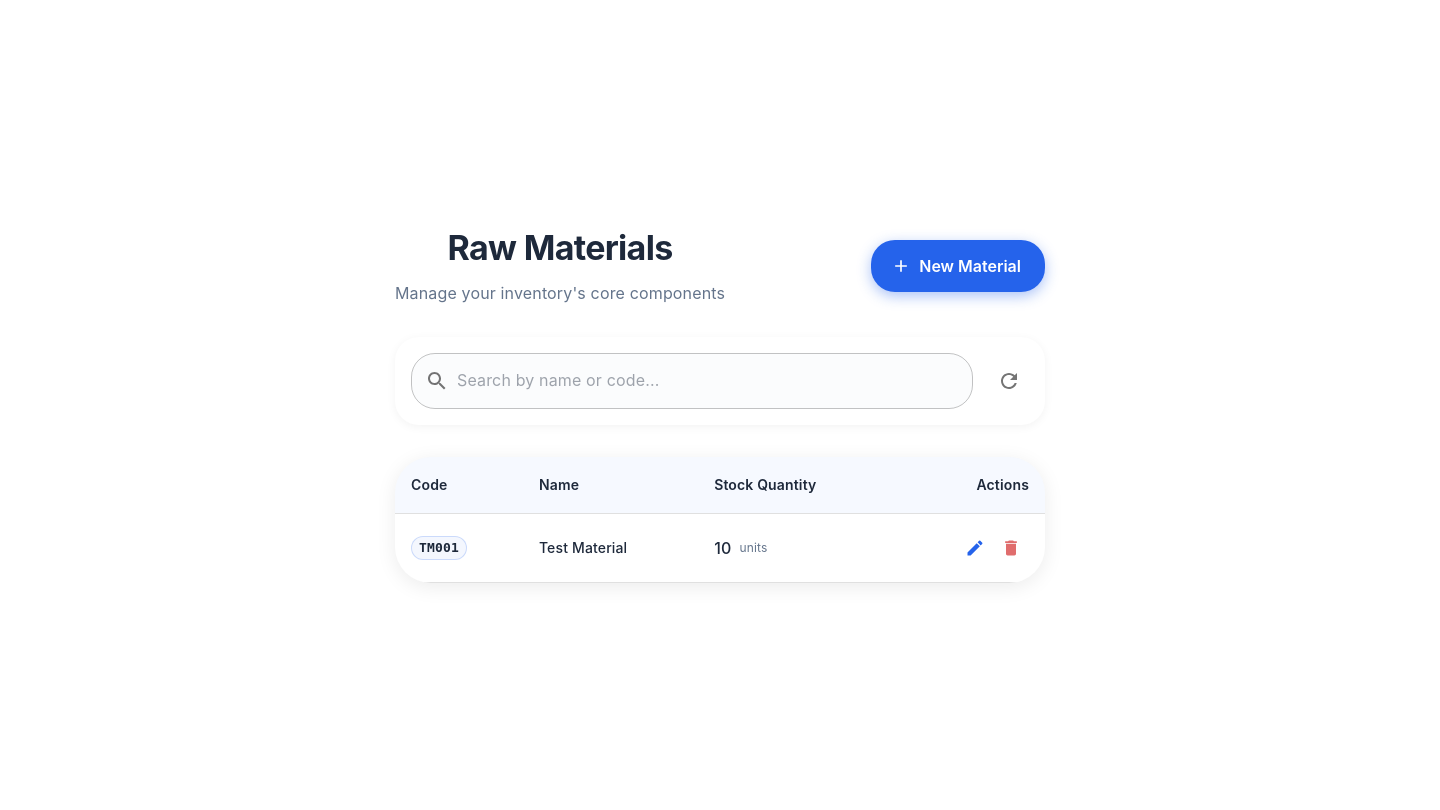
Scenario: RawMaterialsPage › opens edit material dialog, pre-populates data, and submits successfully
Expected: the text "Test Material" is shown, x1=523 y1=513 x2=698 y2=582
Click the button with test id "EditIcon" at [975, 548], box x1=957 y1=530 x2=993 y2=566
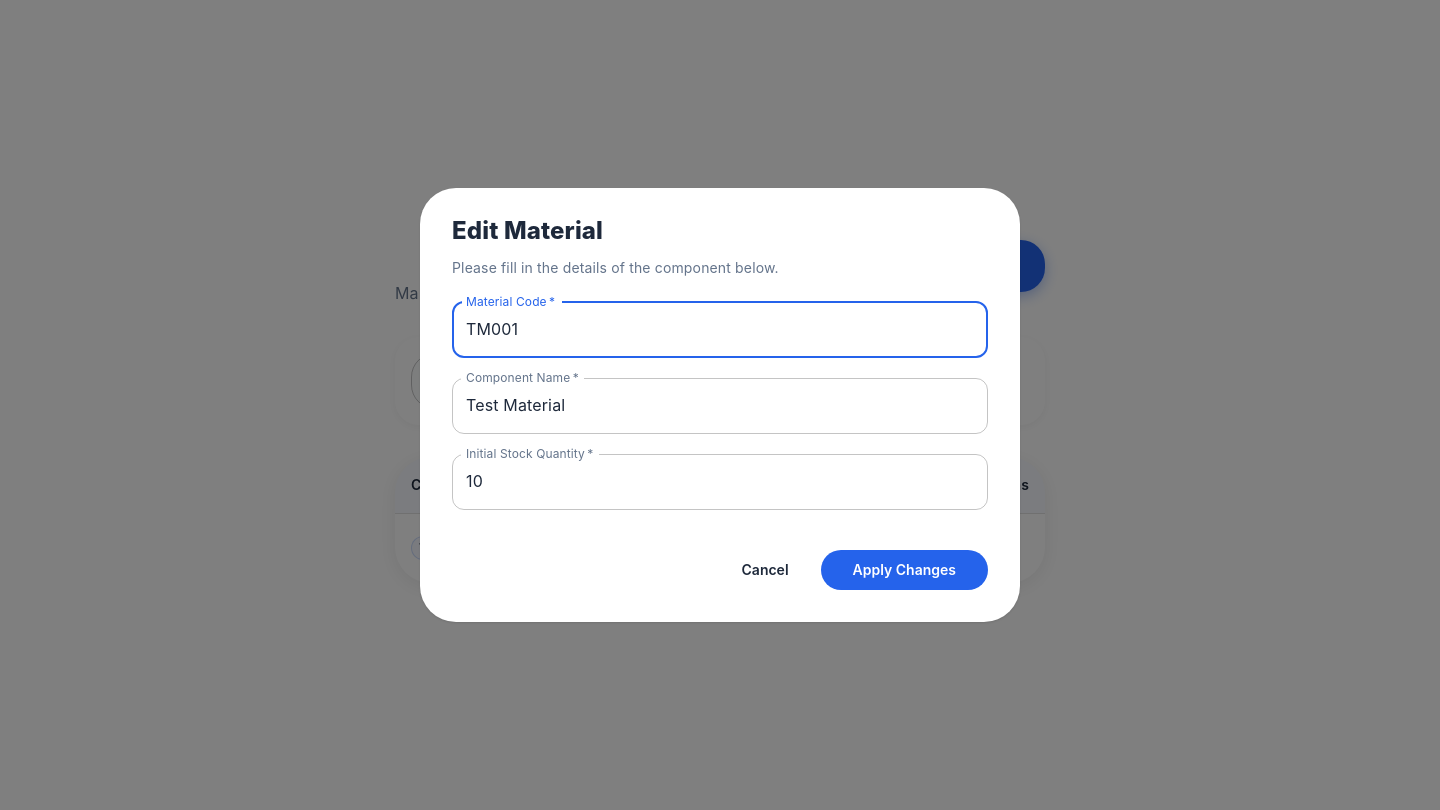
Now the heading "Edit Material" is shown, box x1=452 y1=216 x2=603 y2=244
Now the number field labelled "Initial Stock Quantity *" holds "10"
Replace the text in the number field labelled "Initial Stock Quantity *" with "50" at [720, 482], box x1=452 y1=454 x2=988 y2=510
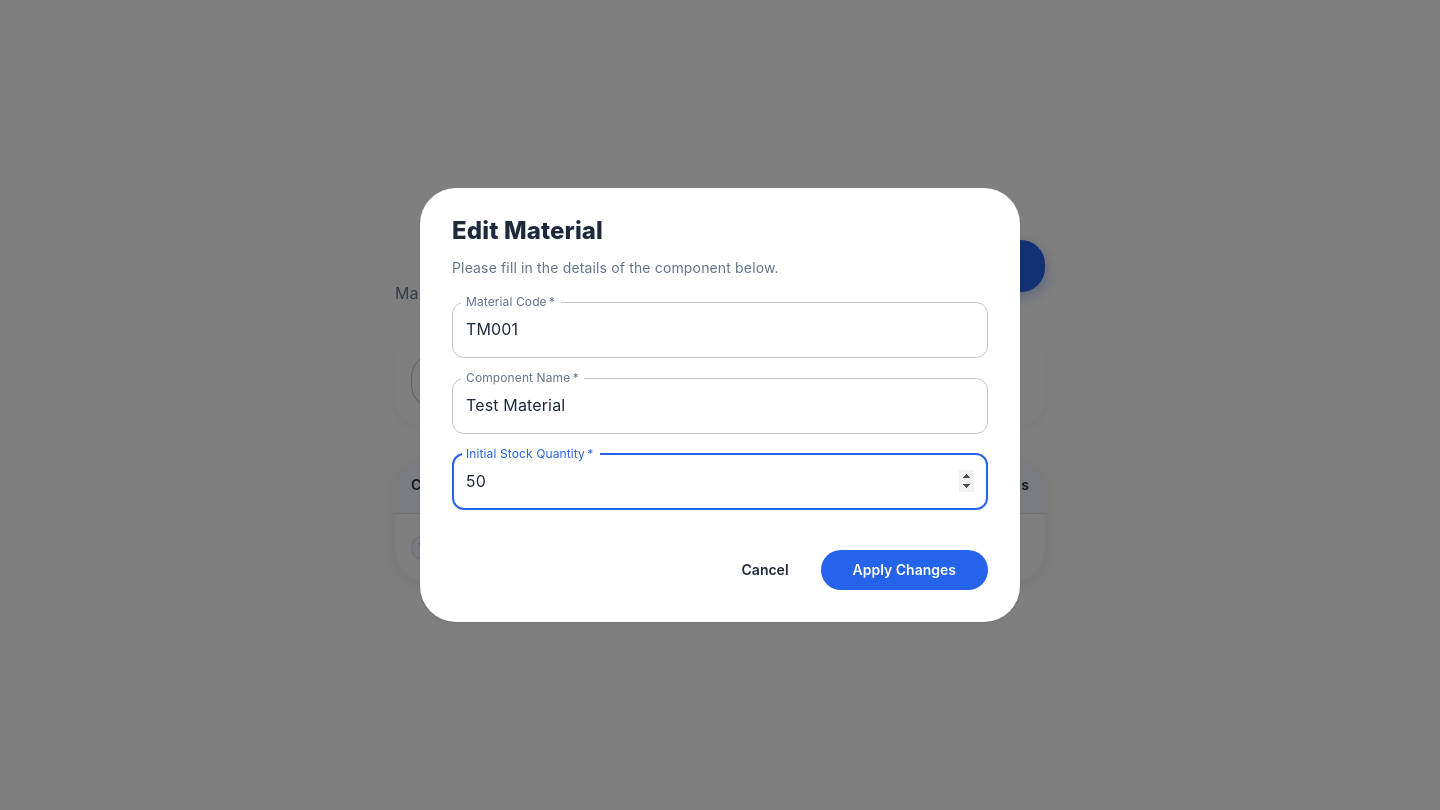
Click the button "Apply Changes" at [904, 570], box x1=821 y1=550 x2=988 y2=590
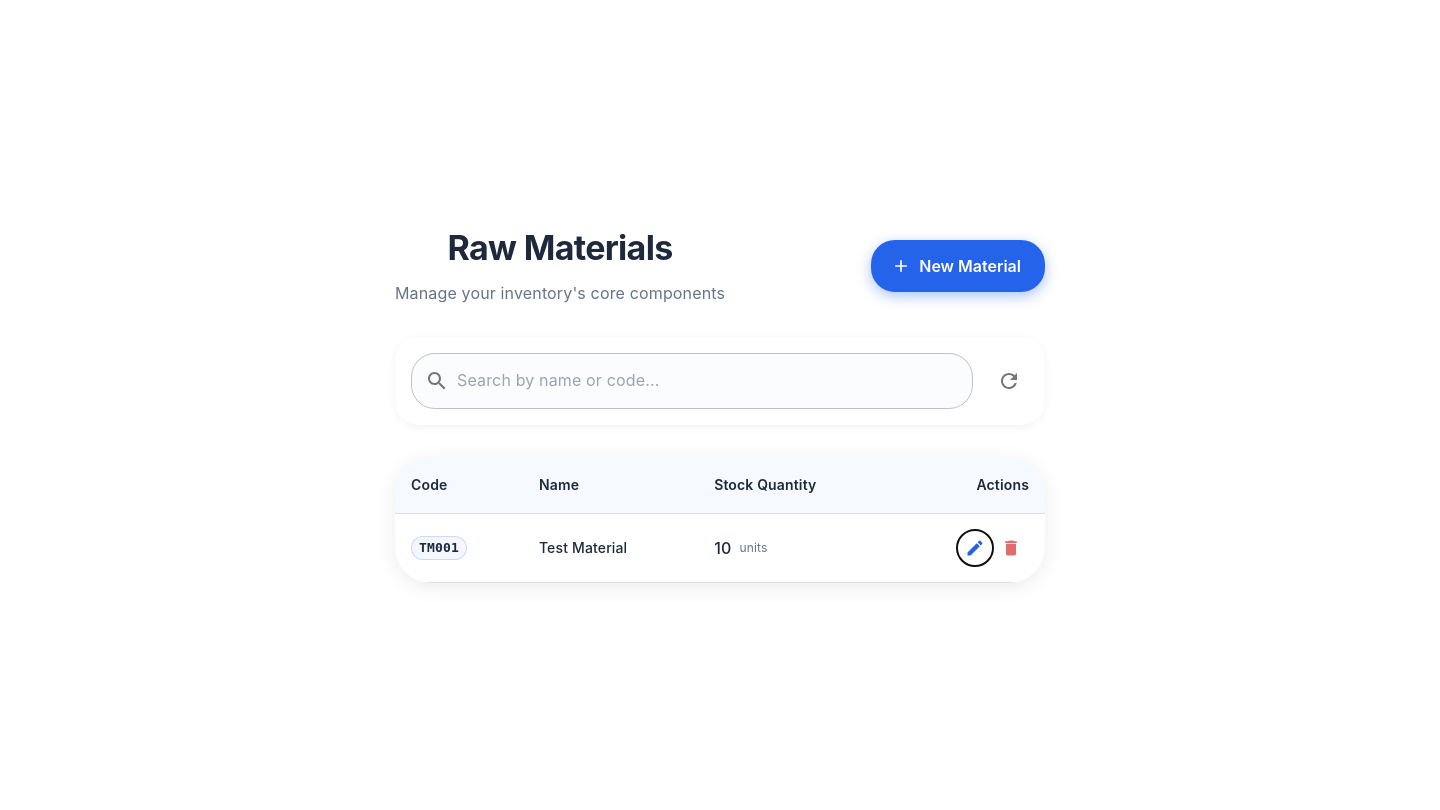
Now the heading "Edit Material" is gone
